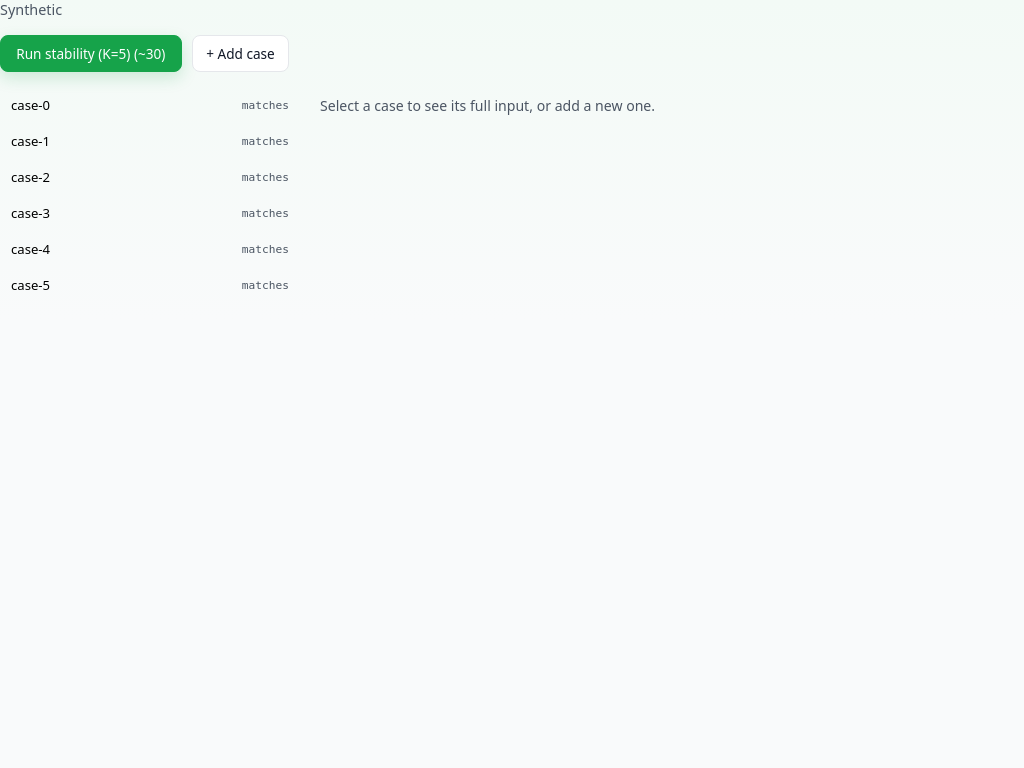
it: uses current fixture size for whole runs and the same K for a row request
The image size is (1024, 768).
Click the button "case-0 matches".
click(31, 105)  # box [0,88,300,122]
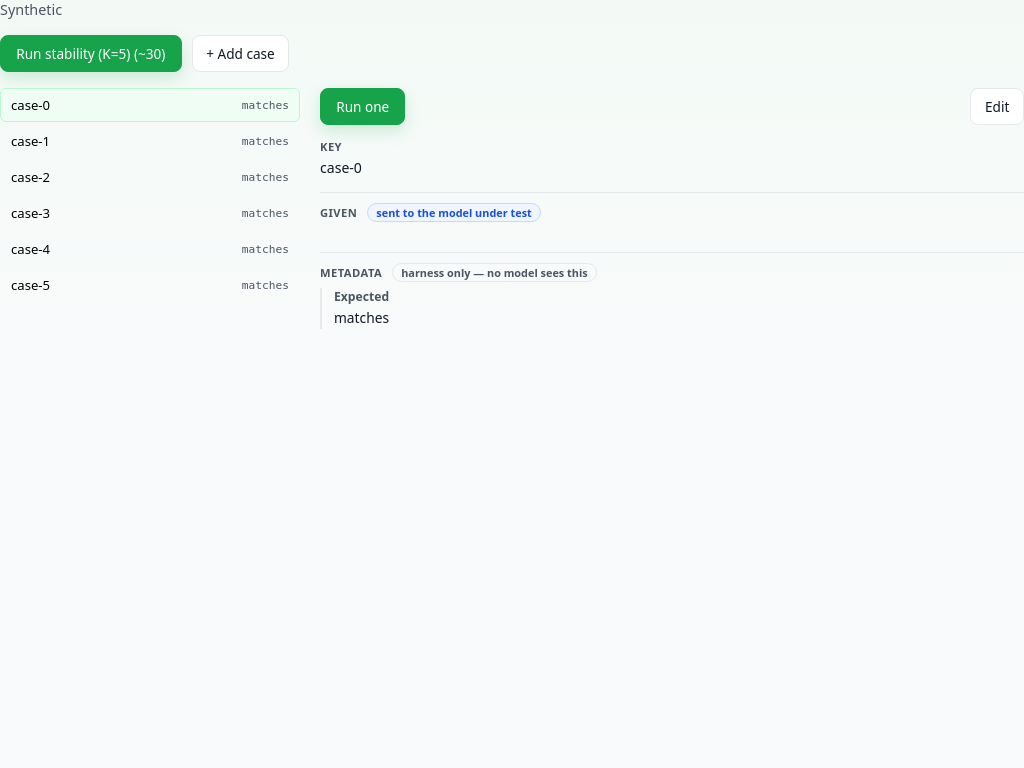
Click the button "Run one".
click(363, 106)  # box [320,88,406,125]
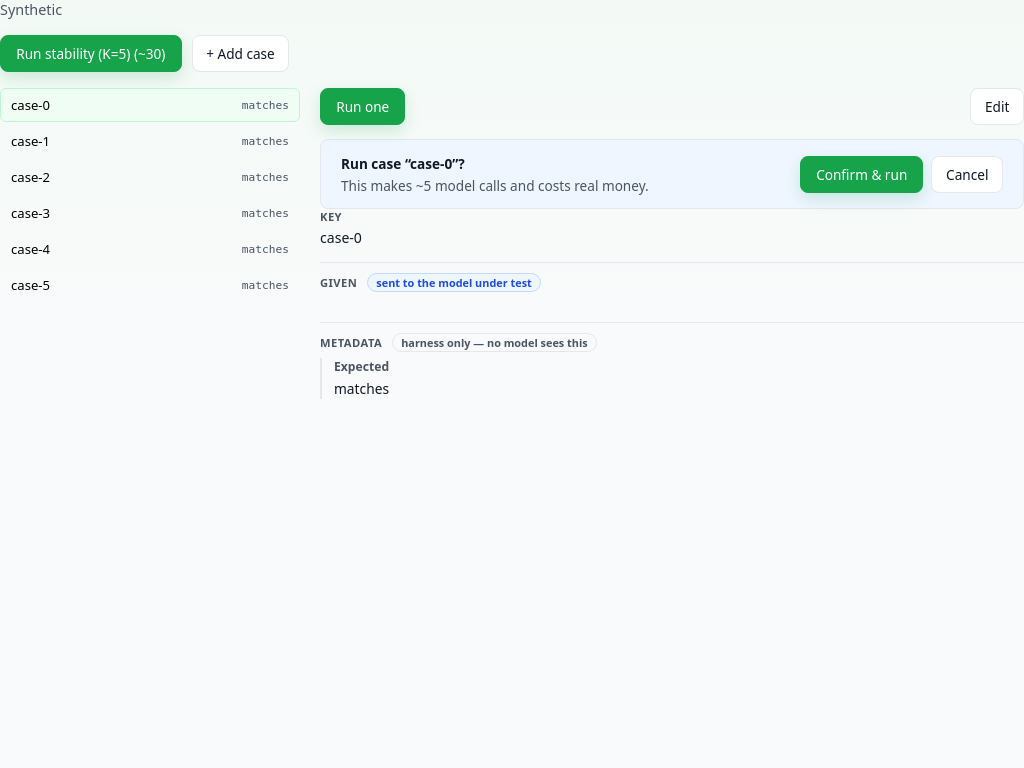
Now the text "This makes ~5 model calls and costs real money." is shown, box [341,176,649,195]
Click the button "Confirm & run".
click(862, 174)  # box [800,156,923,193]
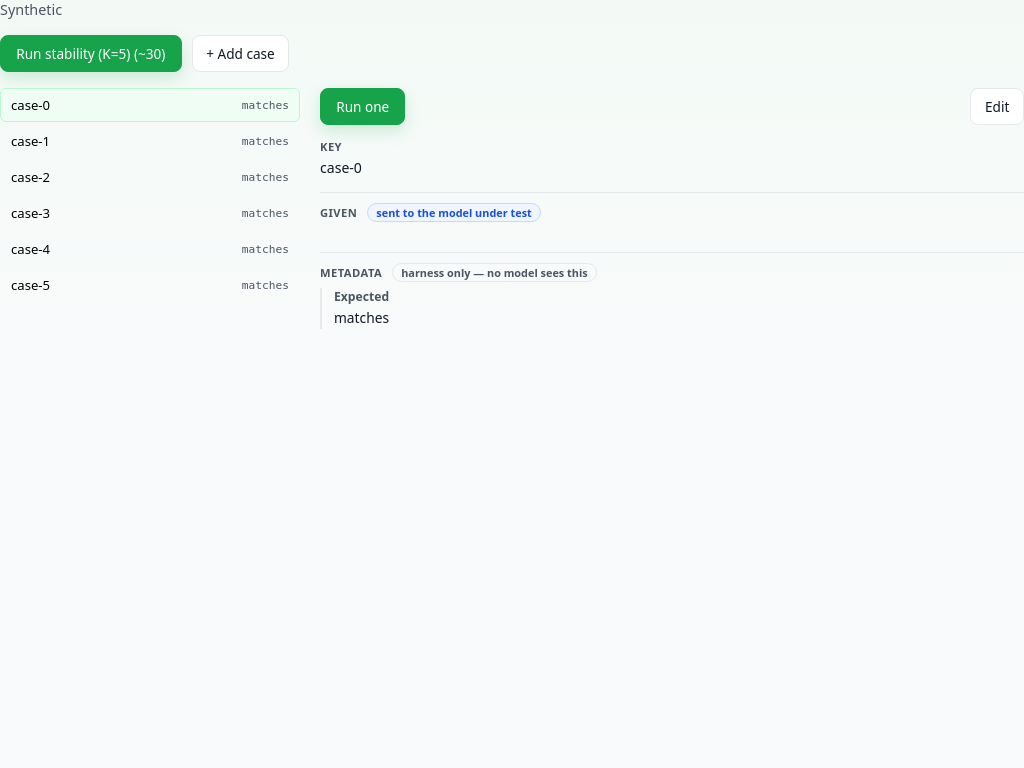
Click the button "Run stability (K=5) (~30)".
click(91, 54)  # box [0,35,182,72]
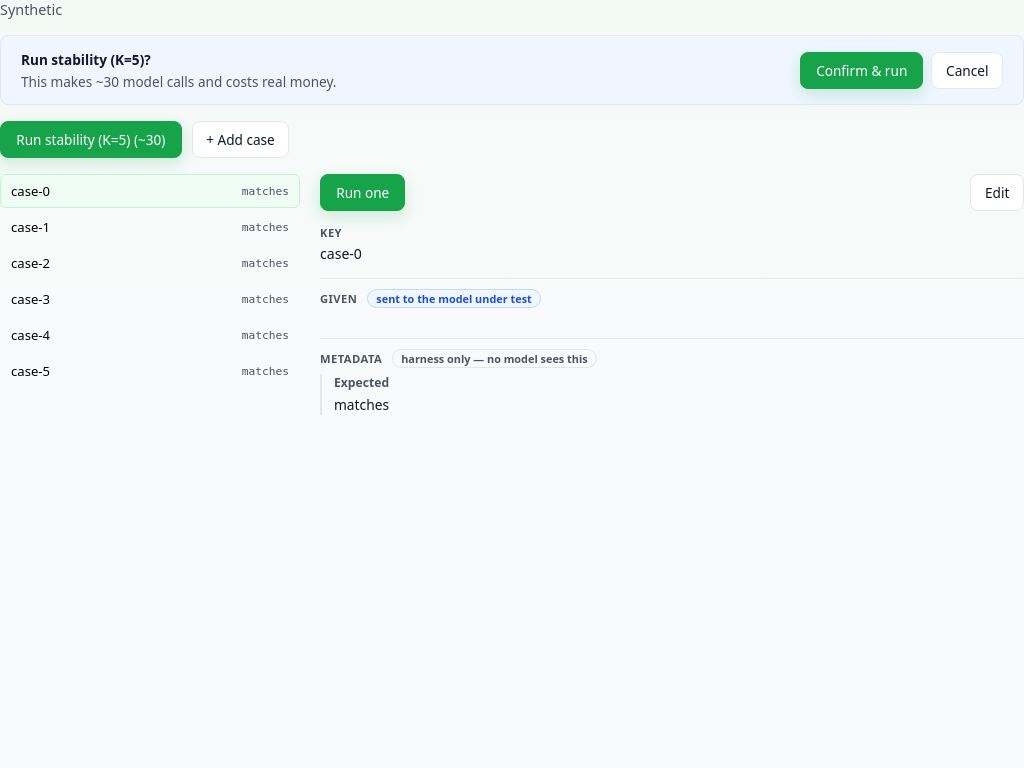
Now the text "This makes ~30 model calls and costs real money." is shown, box [21,72,336,91]
